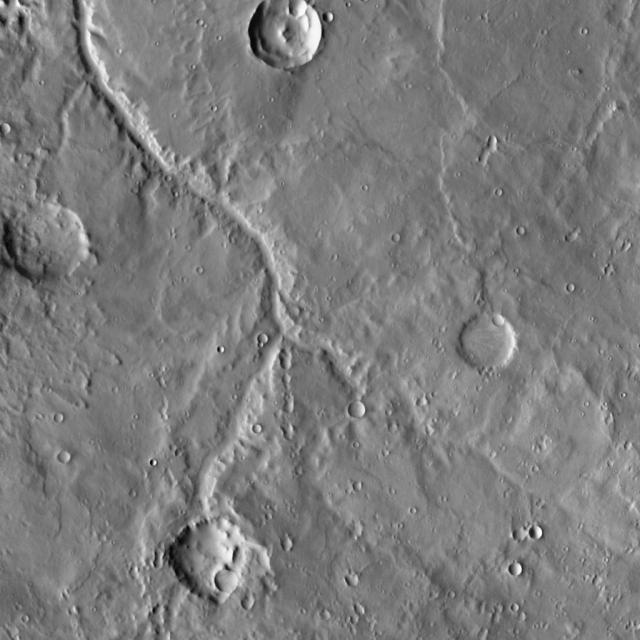crater: (10, 201, 92, 284), (176, 518, 258, 600), (254, 0, 328, 70), (465, 314, 521, 370), (236, 543, 276, 583), (220, 570, 243, 594), (294, 0, 313, 18), (355, 402, 371, 418), (351, 573, 365, 588), (284, 537, 298, 552), (482, 150, 496, 163), (63, 451, 76, 464), (519, 526, 532, 538), (498, 313, 510, 326), (516, 514, 528, 527), (162, 629, 176, 640), (515, 563, 527, 575), (536, 526, 548, 538), (248, 596, 260, 608), (571, 230, 583, 242), (156, 611, 168, 623), (262, 335, 274, 346), (12, 626, 24, 637), (287, 422, 298, 433), (358, 481, 368, 492), (159, 546, 170, 556), (358, 524, 368, 535), (6, 123, 16, 133), (328, 13, 338, 23), (494, 137, 504, 147), (423, 397, 433, 407), (286, 360, 296, 370), (60, 412, 70, 422), (359, 604, 369, 614), (326, 610, 336, 620), (626, 242, 636, 252), (393, 422, 403, 432), (286, 373, 296, 383), (288, 402, 298, 412), (159, 556, 169, 566), (134, 564, 144, 574), (158, 603, 168, 613), (516, 603, 526, 612), (289, 392, 298, 402), (523, 227, 532, 236), (543, 440, 552, 449), (289, 430, 298, 439), (499, 603, 508, 612), (354, 614, 364, 622), (496, 612, 506, 620), (610, 264, 618, 273), (270, 512, 279, 520), (598, 575, 606, 584), (573, 283, 581, 291), (260, 423, 268, 431), (397, 233, 405, 241), (223, 345, 231, 353), (610, 414, 618, 422), (148, 450, 156, 458), (134, 488, 142, 496), (72, 606, 80, 614), (486, 626, 494, 634), (523, 611, 531, 619), (162, 167, 170, 174), (195, 10, 202, 18), (501, 188, 508, 196), (629, 442, 637, 449), (432, 427, 439, 435), (380, 442, 388, 449), (272, 403, 279, 411), (293, 460, 300, 468), (408, 499, 416, 506), (355, 626, 362, 634), (534, 491, 542, 498), (486, 12, 493, 19), (530, 457, 537, 464), (384, 402, 391, 409), (173, 441, 180, 448), (156, 533, 163, 540), (447, 583, 454, 590), (625, 616, 632, 623), (22, 608, 28, 615), (96, 492, 102, 499), (367, 616, 374, 622), (130, 180, 136, 186), (110, 379, 116, 385), (161, 406, 167, 412), (168, 437, 175, 442), (10, 628, 18, 632)
